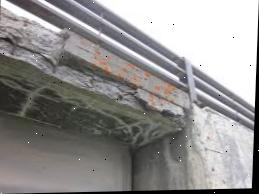spalling: (0, 7, 185, 130)
